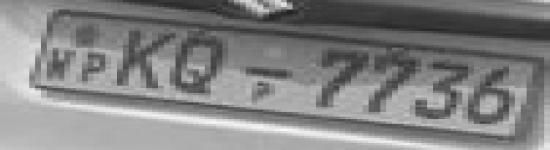-: (241, 61, 302, 88)
3: (399, 54, 482, 127)
6: (454, 58, 527, 132)
7: (354, 47, 429, 118), (300, 45, 374, 114)
K: (105, 24, 186, 95)
P: (74, 49, 118, 89)
Q: (161, 29, 244, 102)
W: (40, 44, 80, 85)
